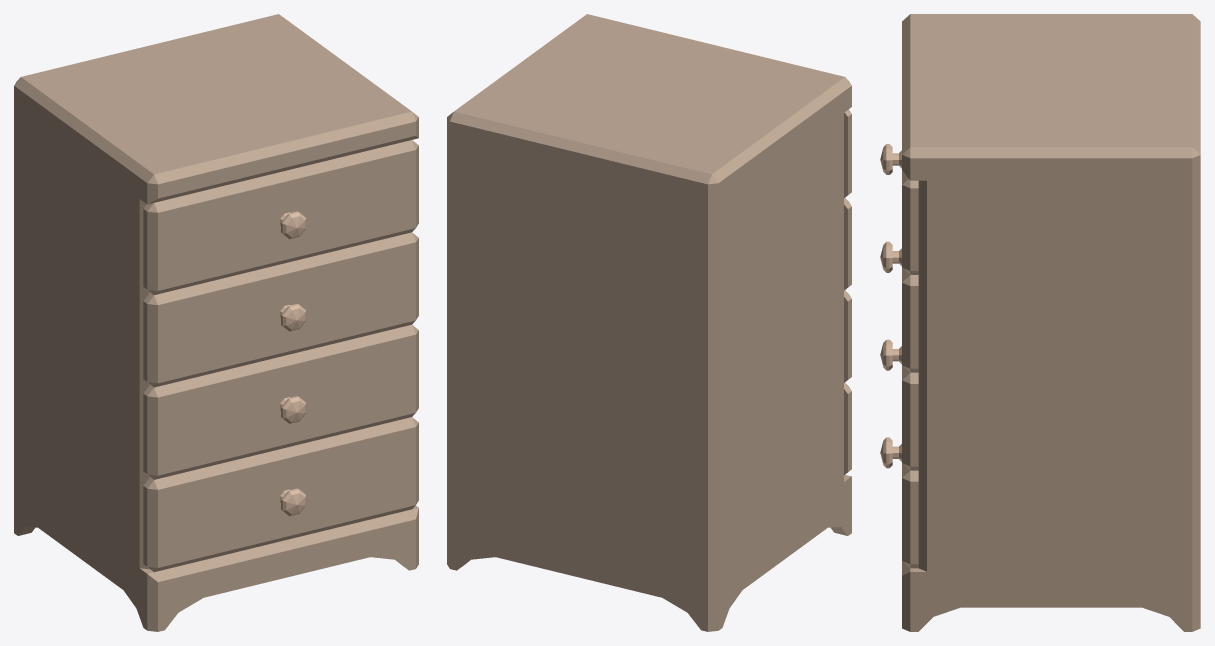
Rendered from Prop_Bedroom_Dresser_Single_Tall.glb.
3 renders of one model, left to right at view 1: azimuth 30°, elevation 25°; view 2: azimuth 150°, elevation 25°; view 3: azimuth 270°, elevation 25°, orthographic. The views are drawn at different scales.
Parts seen in each view (by area): view 1: Prop_Bedroom_Dresser_Single_Tall; view 2: Prop_Bedroom_Dresser_Single_Tall; view 3: Prop_Bedroom_Dresser_Single_Tall.
Boxes of the visible parts, bbox=[...] form: Prop_Bedroom_Dresser_Single_Tall: bbox=[14, 14, 418, 631]; Prop_Bedroom_Dresser_Single_Tall: bbox=[447, 14, 851, 631]; Prop_Bedroom_Dresser_Single_Tall: bbox=[880, 14, 1200, 631].
Bounding box in the file's own units: 1 × 1.6 × 0.9656.
